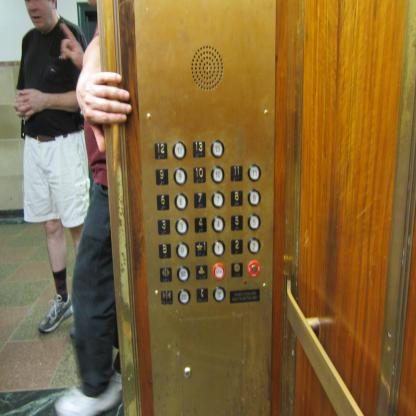1: (211, 240, 226, 256)
10: (192, 165, 206, 184), (211, 165, 225, 184)
11: (247, 164, 261, 182), (230, 165, 244, 182)
12: (172, 140, 186, 159), (154, 142, 168, 160)
13: (210, 138, 224, 158), (192, 140, 206, 158)
2: (247, 236, 261, 255), (230, 238, 244, 255)
3: (174, 216, 189, 235), (157, 218, 171, 235)
4: (211, 215, 225, 233), (194, 216, 208, 233)
5: (229, 214, 244, 232), (247, 213, 261, 231)
6: (155, 193, 170, 211), (173, 192, 188, 210)
7: (192, 192, 207, 209), (211, 191, 225, 209)
8: (247, 188, 262, 206), (230, 189, 243, 207)
9: (154, 167, 168, 187), (173, 167, 187, 185)
B: (175, 240, 189, 259), (158, 242, 172, 260)
alarm: (195, 264, 208, 280)
call: (196, 288, 208, 302)
close: (160, 289, 173, 306)
keyhole: (247, 260, 261, 278)
open: (158, 266, 172, 283)
s1: (194, 240, 208, 258)
stop: (230, 262, 244, 278)
text: (212, 262, 226, 280), (176, 266, 190, 282), (177, 288, 191, 304), (212, 286, 226, 302)
